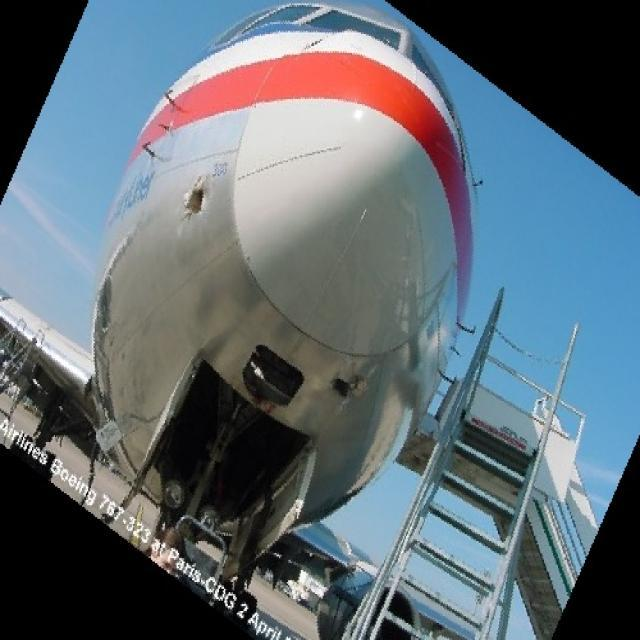dent: (184, 174, 220, 227), (322, 366, 362, 404)
